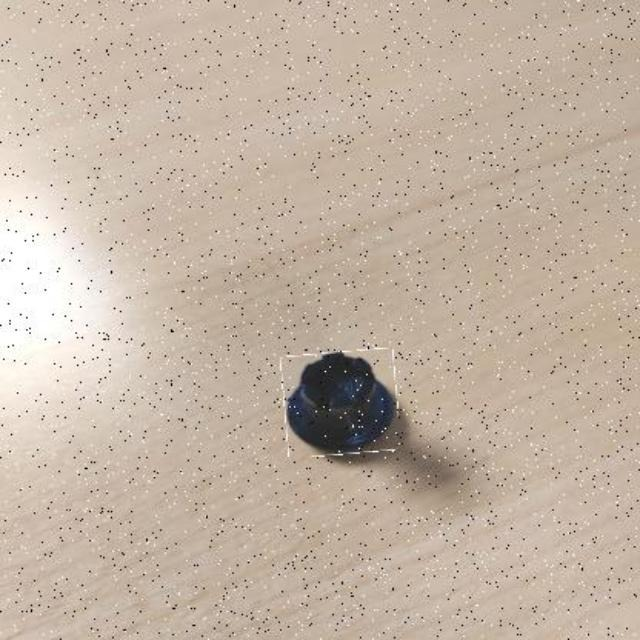black-rook: (283, 351, 398, 457)
